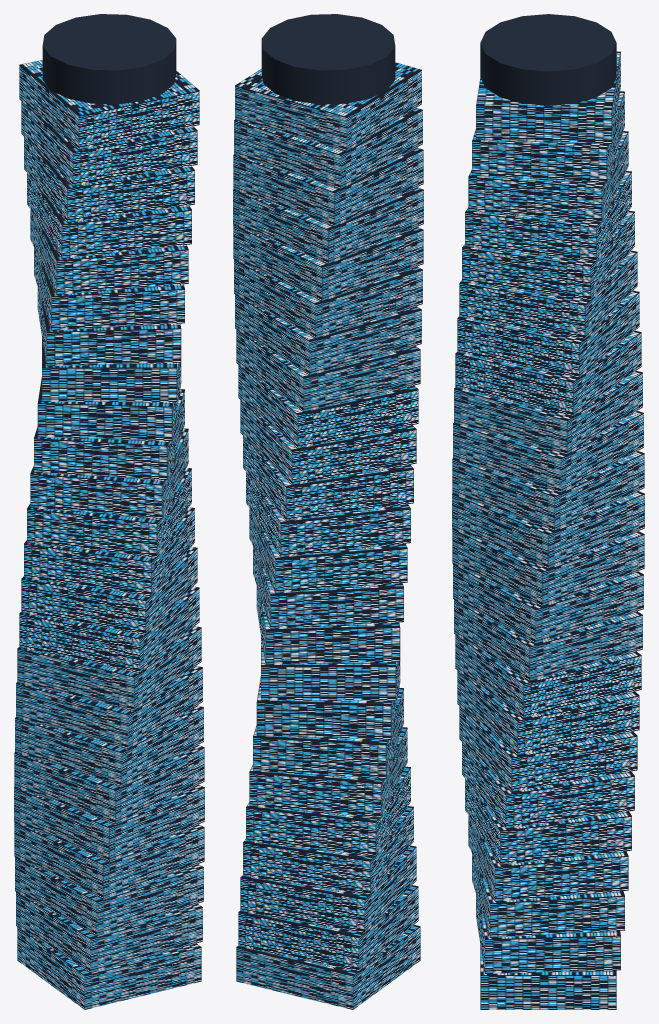
Rendered from skyline-v2-cylinder.glb.
3 views of the same model, side by side, from view 1: azimuth 30°, elevation 25°; view 2: azimuth 150°, elevation 25°; view 3: azimuth 270°, elevation 25° (orthographic).
Size of the model in its own units: 2.55 by 13.68 by 2.55.
Materials: 2 (1 with a texture image).
